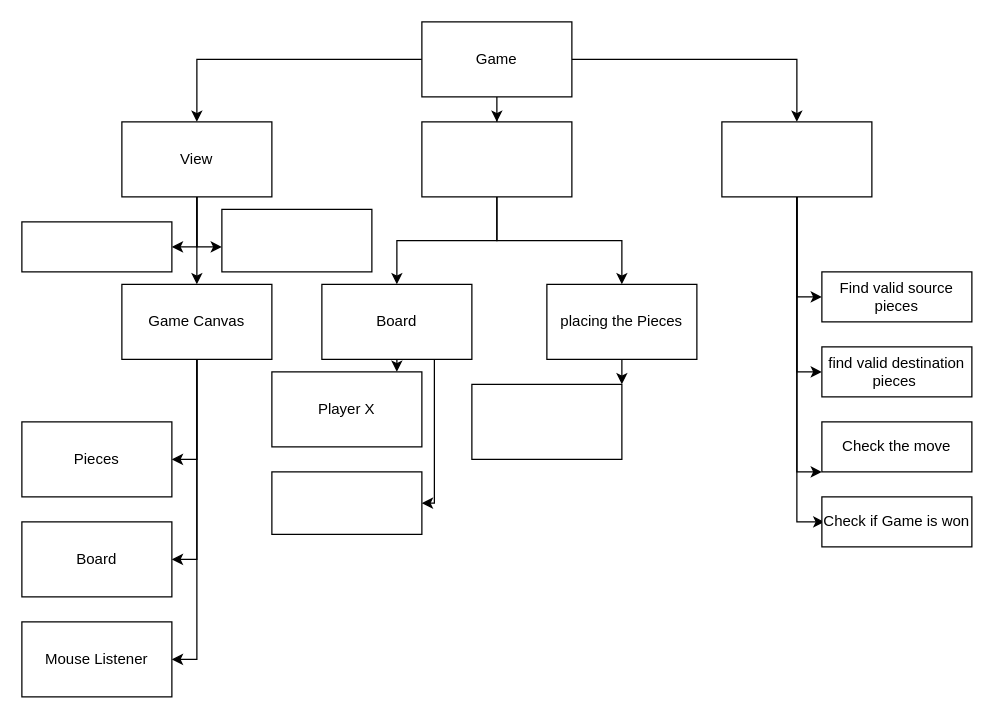
This 994x719 diagram has some shape labels left out. Each missing label, with the centre of its shape:
"Controller" belongs at point (796, 159).
"Making the move" belongs at point (546, 421).
"Model" belongs at point (496, 159).
"Player O" belongs at point (346, 502).
"settings" belongs at point (296, 240).
"Start" belongs at point (96, 246).
